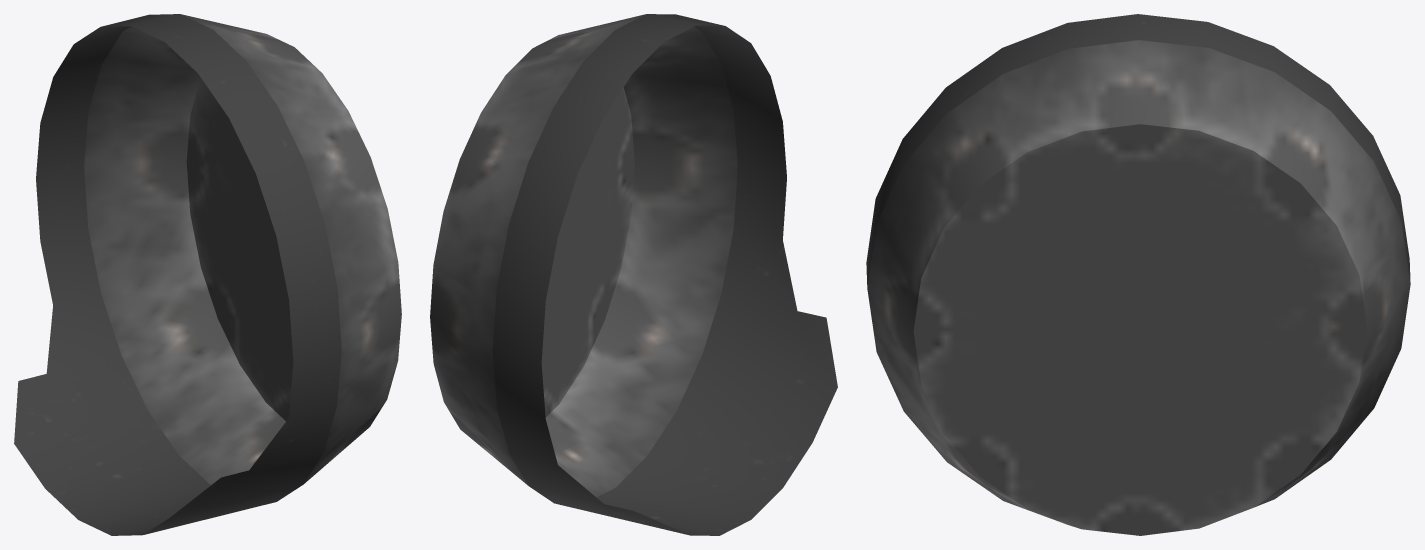
Rendered from WallWindow_Cap_B.gltf.
The picture shows the model from 3 angles, left to right: view 1: azimuth 30°, elevation 25°; view 2: azimuth 150°, elevation 25°; view 3: azimuth 270°, elevation 25°; orthographic projection. The views are drawn at different scales.
Parts seen in each view (by area): view 1: WallWindow_Cap_B; view 2: WallWindow_Cap_B; view 3: WallWindow_Cap_B.
Part boxes in pixels (x1=…): WallWindow_Cap_B: x1=14, y1=14, x2=401, y2=535; WallWindow_Cap_B: x1=430, y1=14, x2=837, y2=535; WallWindow_Cap_B: x1=866, y1=14, x2=1410, y2=535.
Size of the model in its own units: 0.2008 by 0.3958 by 0.3954.
2 materials, 2 textured.
